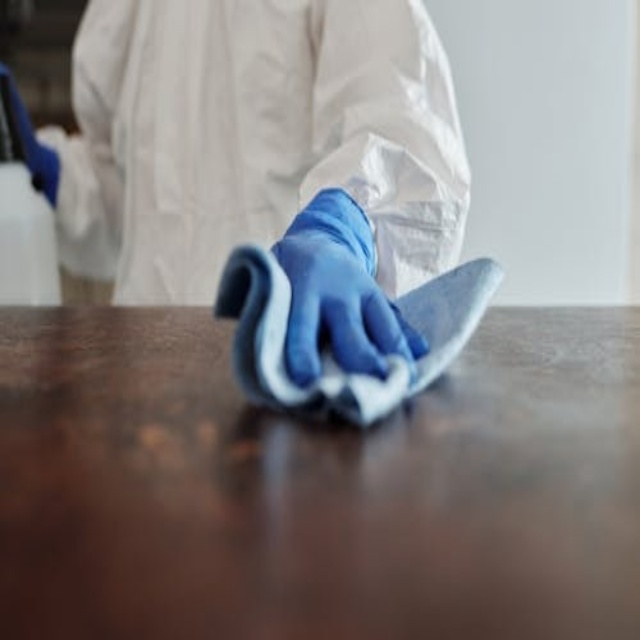Guantes: (264, 185, 427, 391), (1, 59, 60, 208)
